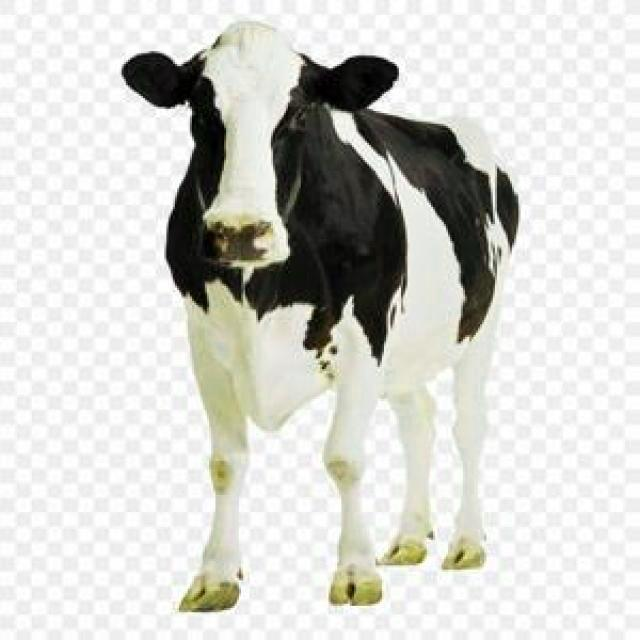cow: (122, 22, 519, 611)
